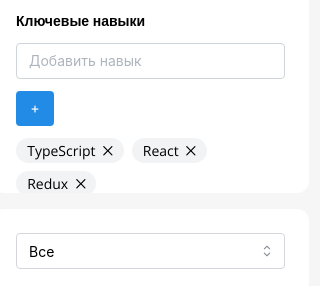
FilterSidebar › Добавляет новый навык при нажатии Enter
Step 1. Type "Angular" into the field with placeholder "Добавить навык" → x=150, y=61, box [29,50,272,72]
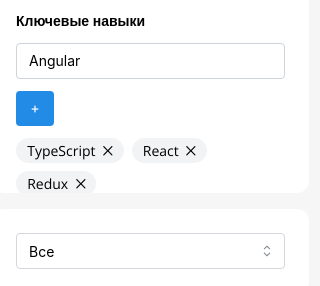
Step 2. Press Enter in the field with placeholder "Добавить навык" below "Ключевые навыки", box [29,50,272,72]
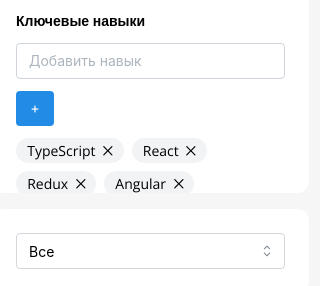
Check: the text "Angular" is shown, box [115,171,166,193]
